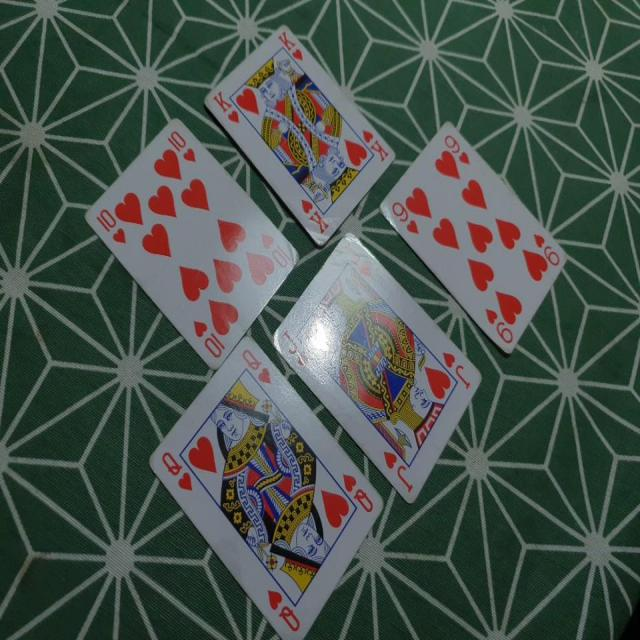10 Hearts: (80, 112, 301, 367)
9 Hearts: (378, 117, 576, 354)
J Hearts: (278, 230, 484, 510)
K Hearts: (200, 21, 395, 252)
Q Hearts: (133, 327, 390, 637)
